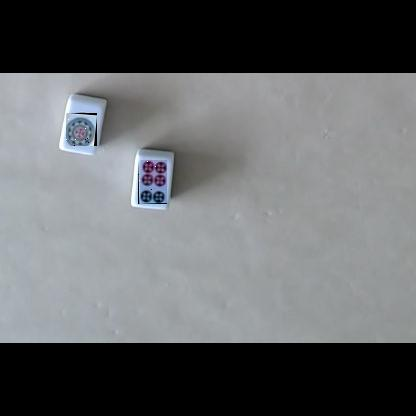1p: (66, 113, 97, 146)
6p: (138, 160, 167, 204)
